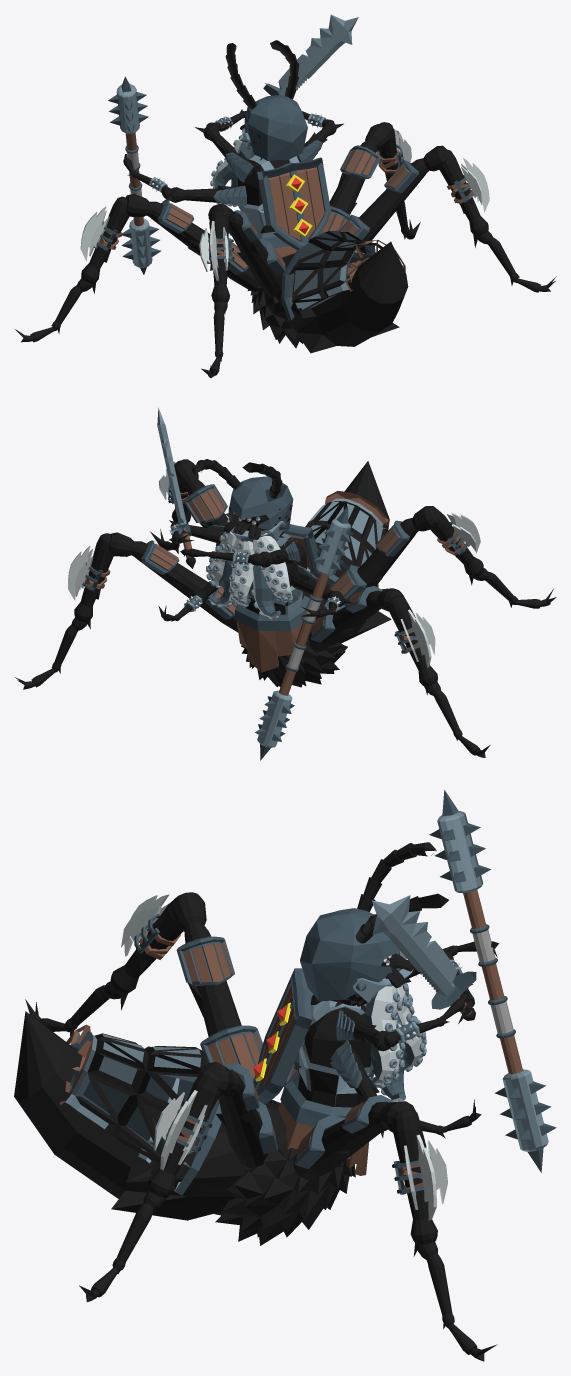
File: static_boss_cthulhu_spider.glb
The picture shows the model from 3 angles, top to bottom: view 1: azimuth 30°, elevation 25°; view 2: azimuth 150°, elevation 25°; view 3: azimuth 270°, elevation 25°; orthographic projection. The views are drawn at different scales.
Visible parts, largest first — view 1: group1278396890, group1886696815, group1996069834, group939042458, group181854690, group275265966, group1601045425, group546824384, group1564926478, group1670635755, group1176322529, group2140389982 (+22 smaller); view 2: group1886696815, group617075487, group1996069834, group1670635755, group1176322529, group546824384, group1564926478, group1278396890, group2140389982, group2040900548, group146167394, group181854690 (+25 smaller); view 3: group1278396890, group1886696815, group1670635755, group1996069834, group181854690, group1477723650, group546824384, group1601045425, group146167394, group2140389982, group2040900548, group1176322529 (+22 smaller).
Part boxes in pixels (x1,y1,x2,y2): group1278396890: (280,241,408,353); group1886696815: (292,230,405,309); group1996069834: (244,95,307,160); group939042458: (269,167,324,241); group181854690: (263,14,358,95); group275265966: (257,157,330,250); group1601045425: (359,145,447,241); group546824384: (208,203,282,297); group1564926478: (125,194,258,291); group1670635755: (247,252,302,348); group1176322529: (329,124,390,214); group2140389982: (108,76,148,133); group1886696815: (305,491,388,587); group617075487: (234,595,315,672); group1996069834: (228,476,293,532); group1670635755: (241,591,347,687); group1176322529: (108,532,238,632); group546824384: (325,506,438,609); group1564926478: (309,588,403,651); group1278396890: (325,461,392,643); group2140389982: (314,506,353,575); group2040900548: (255,690,294,760); group146167394: (279,572,328,695); group181854690: (157,407,195,568); group1278396890: (14,1011,245,1220); group1886696815: (60,1024,207,1174); group1670635755: (214,1100,355,1245); group1996069834: (300,908,400,1001); group181854690: (371,895,476,1020); group1477723650: (298,995,371,1107); group546824384: (171,892,253,1082); group1601045425: (197,1062,268,1167); group146167394: (463,890,522,1074); group2140389982: (429,790,490,893); group2040900548: (495,1069,556,1172); group1176322529: (293,1101,415,1179).
Bounding box in the file's own units: 3.95 × 2.39 × 2.9.
